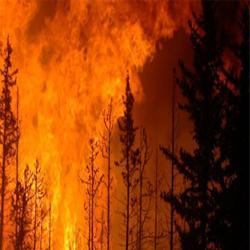fire: (11, 44, 94, 223)
